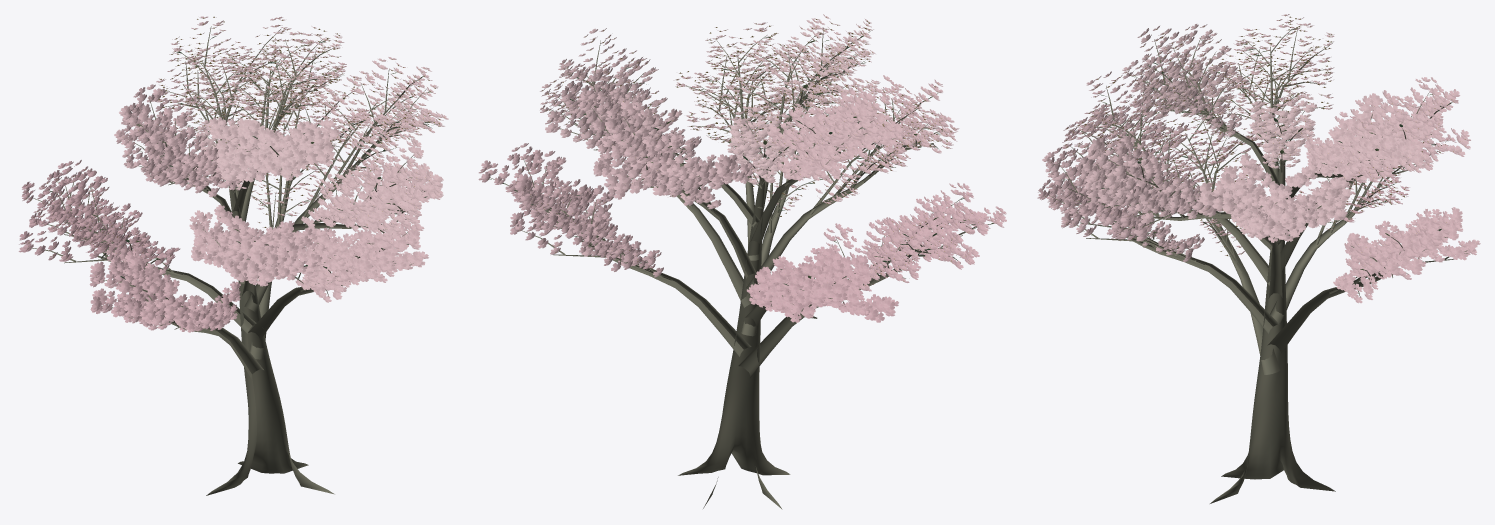
The picture shows the model from 3 angles, left to right: view 1: azimuth 30°, elevation 25°; view 2: azimuth 150°, elevation 25°; view 3: azimuth 270°, elevation 25°; orthographic projection. The views are drawn at different scales.
Visible parts, largest first — view 1: leaves, branches; view 2: leaves, branches; view 3: leaves, branches.
Part boxes in pixels (x1,y1,x2,y2): leaves: (18,16,448,332); branches: (27,26,432,495); leaves: (478,14,1006,322); branches: (490,27,994,509); leaves: (1037,14,1480,303); branches: (1049,27,1453,503).
Size of the model in its own units: 8.2 by 8.78 by 8.13.
